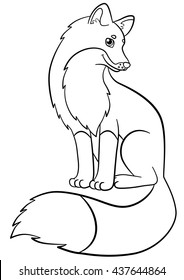animal: (7, 2, 181, 255)
